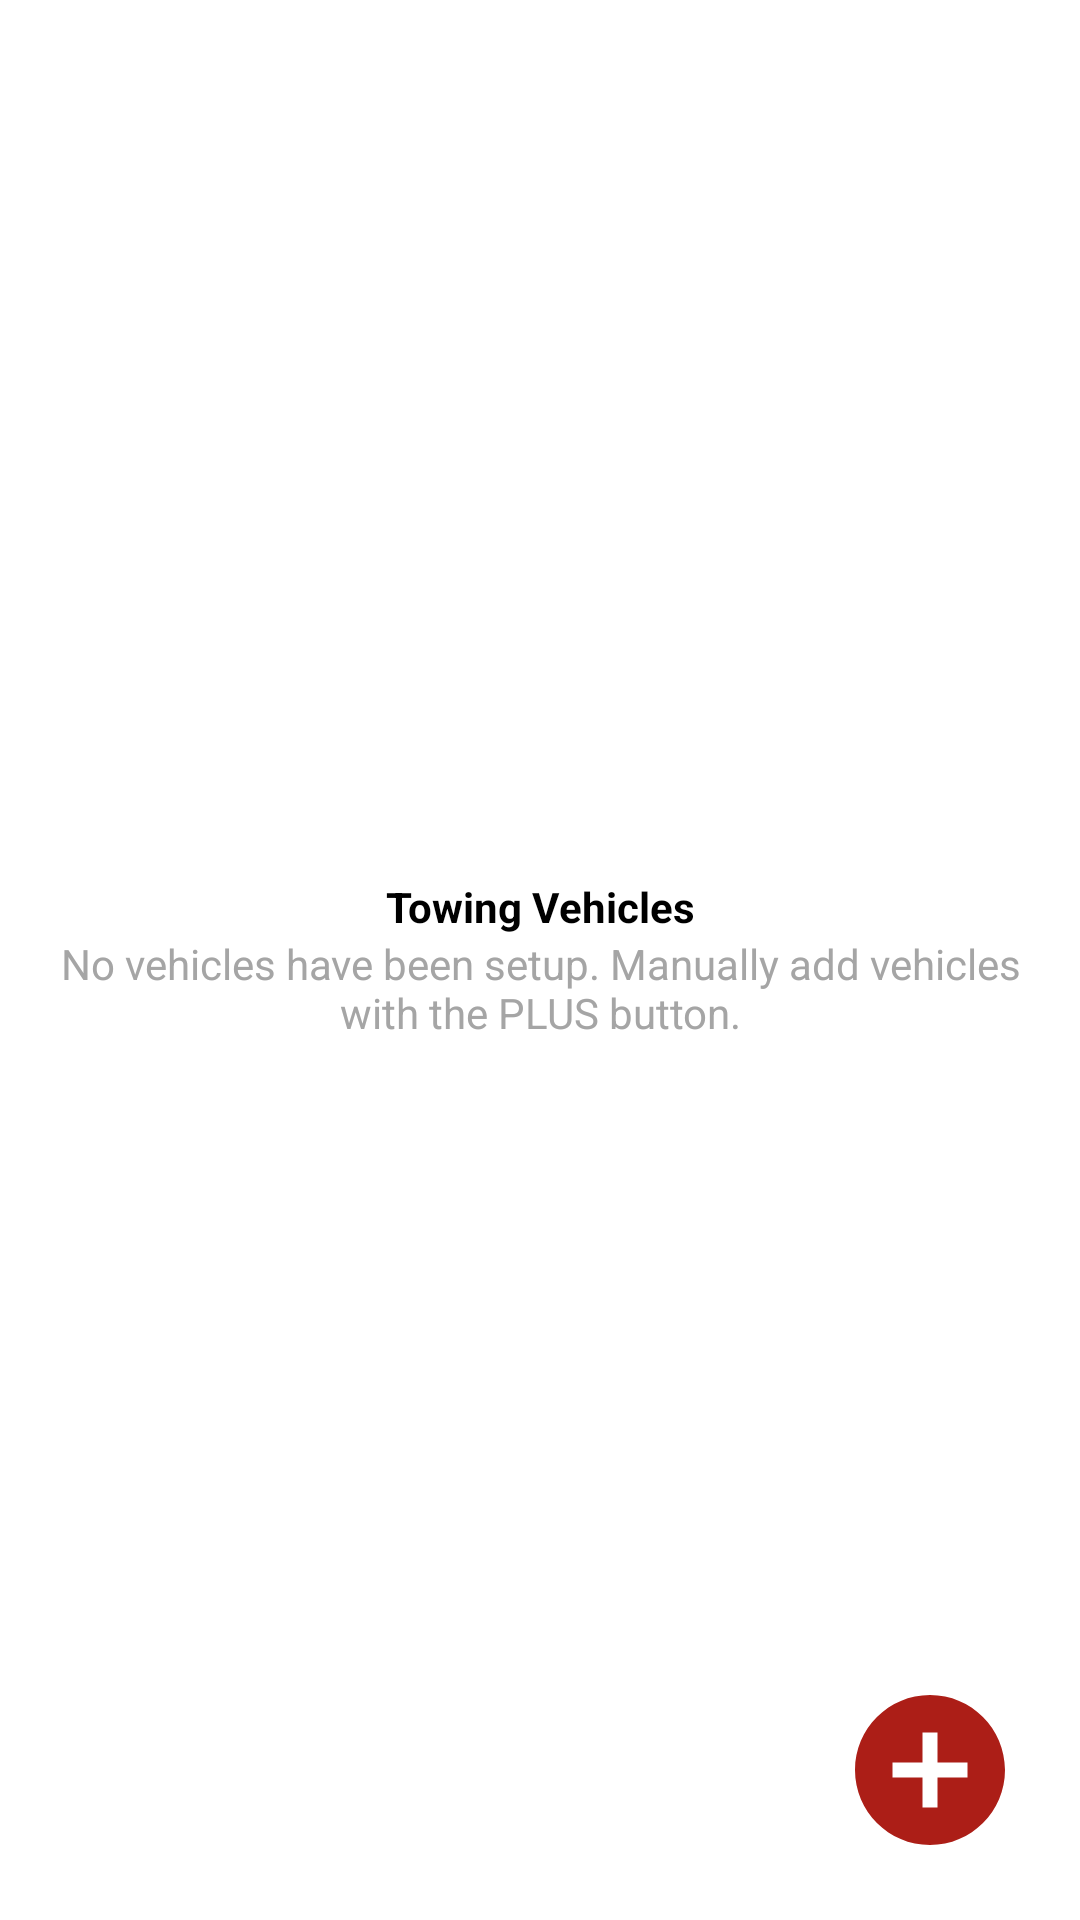

Named icons in this screenshot (1080px x 1920px) and their centers, [x,y]:
add circle: [930,1770]
